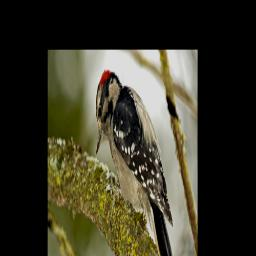Woodpecker: (95, 66, 182, 256)
